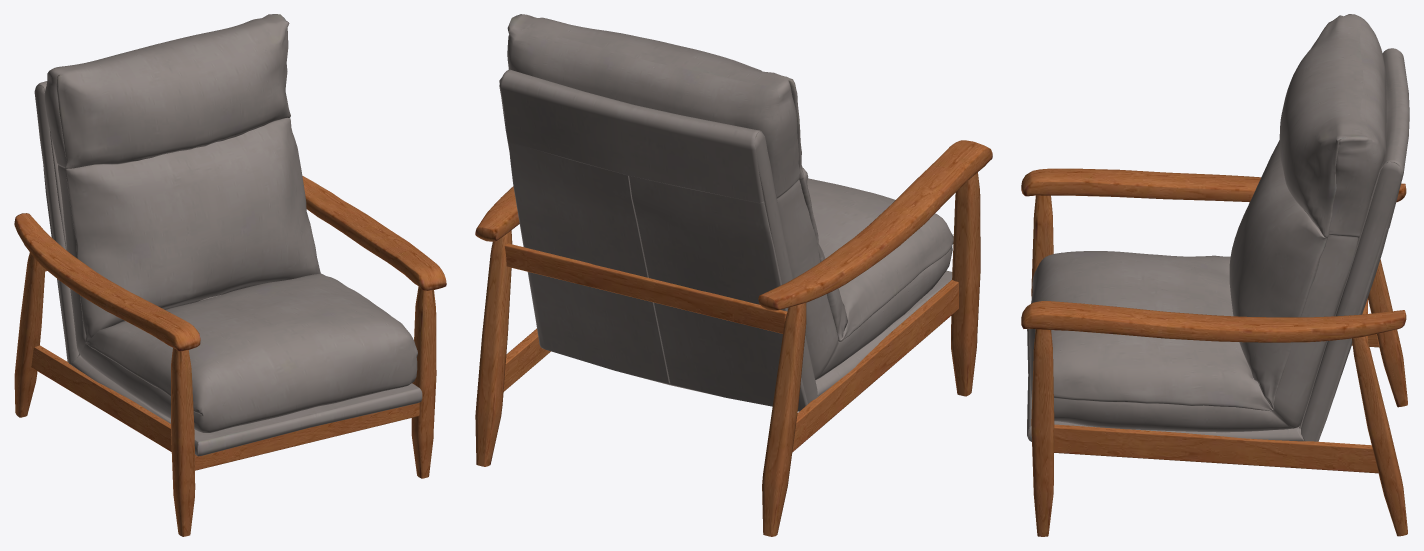
Rendered from B07B4MMPSW.glb.
3 views of the same model, side by side, from view 1: azimuth 30°, elevation 25°; view 2: azimuth 150°, elevation 25°; view 3: azimuth 270°, elevation 25° (orthographic). The views are drawn at different scales.
Parts seen in each view (by area): view 1: RootNode; view 2: RootNode; view 3: RootNode.
Part boxes in pixels (box(x1,y1,x2,y2)): RootNode: box(14, 14, 446, 536); RootNode: box(475, 14, 992, 536); RootNode: box(1021, 14, 1409, 536).
Size of the model in its own units: 0.782 by 0.9222 by 0.8164.
1 material, 1 textured.
